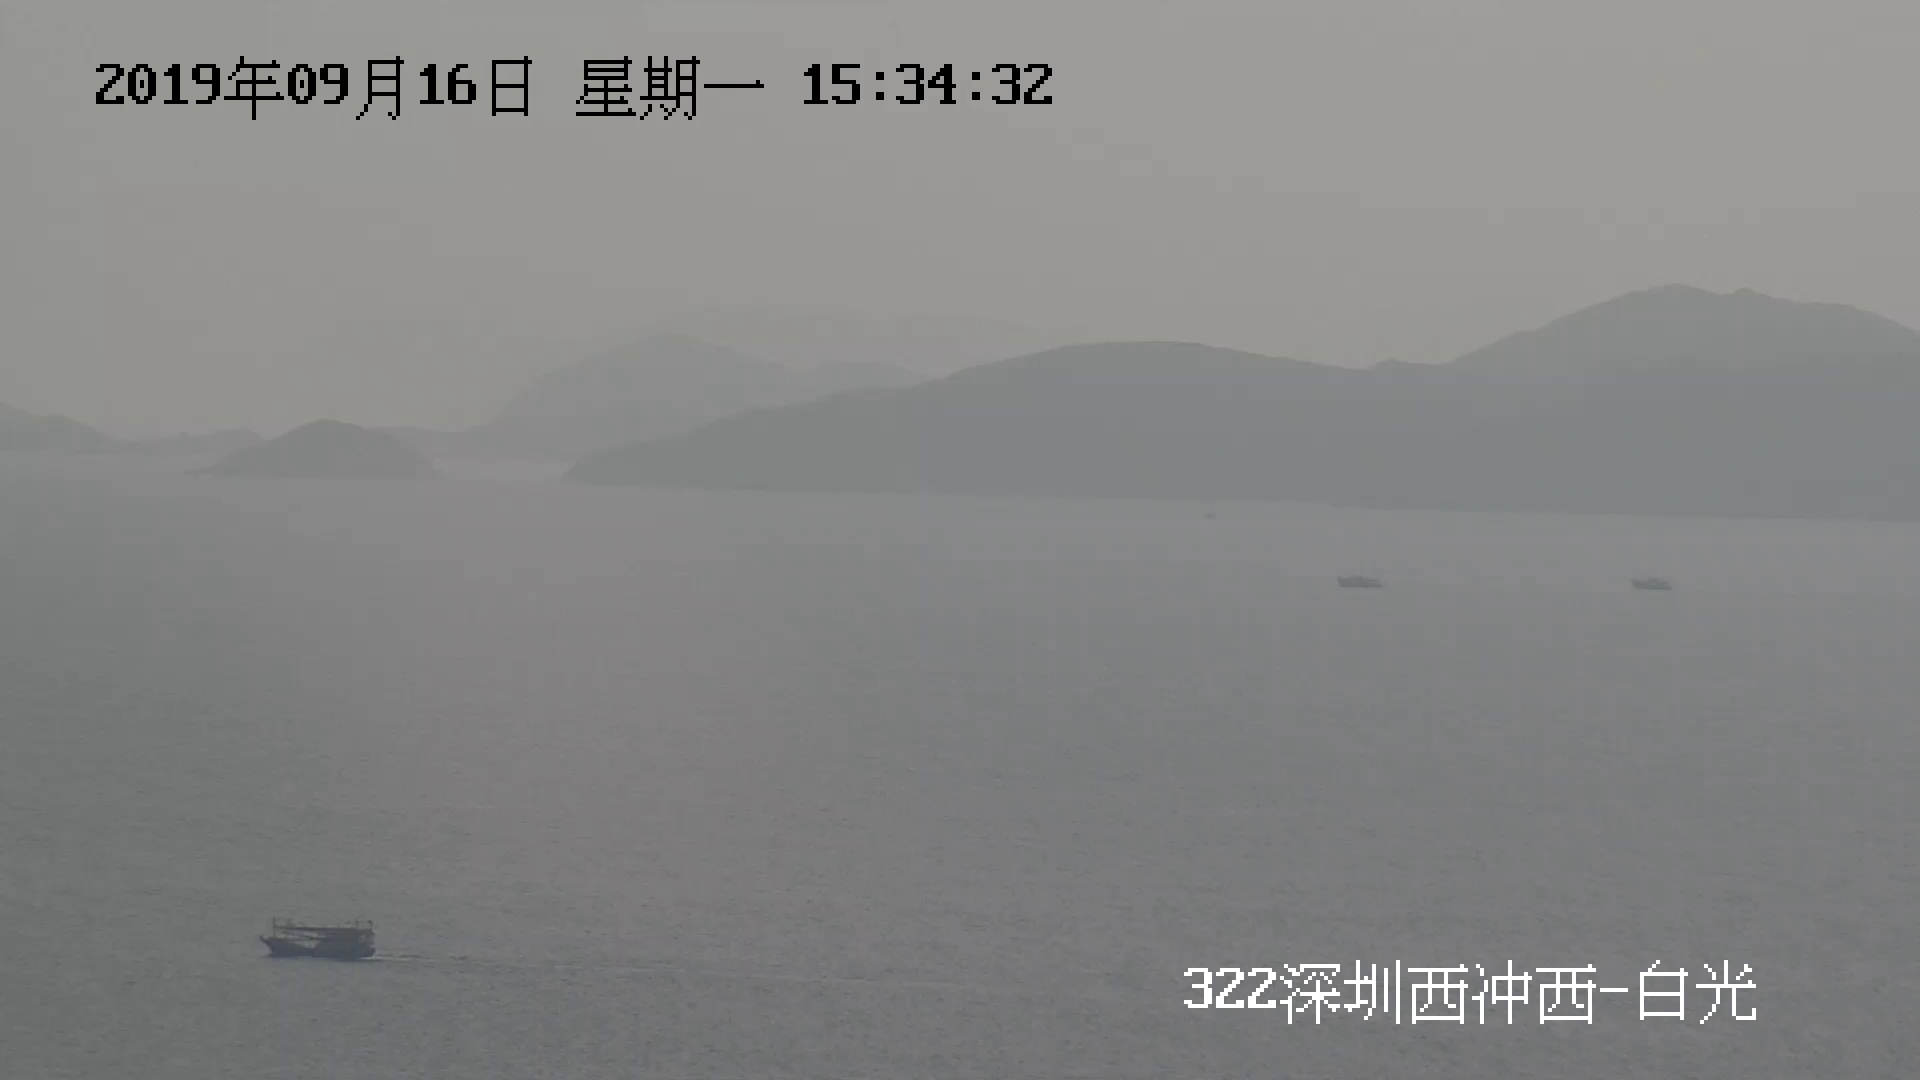ship: (260, 914, 376, 961)
